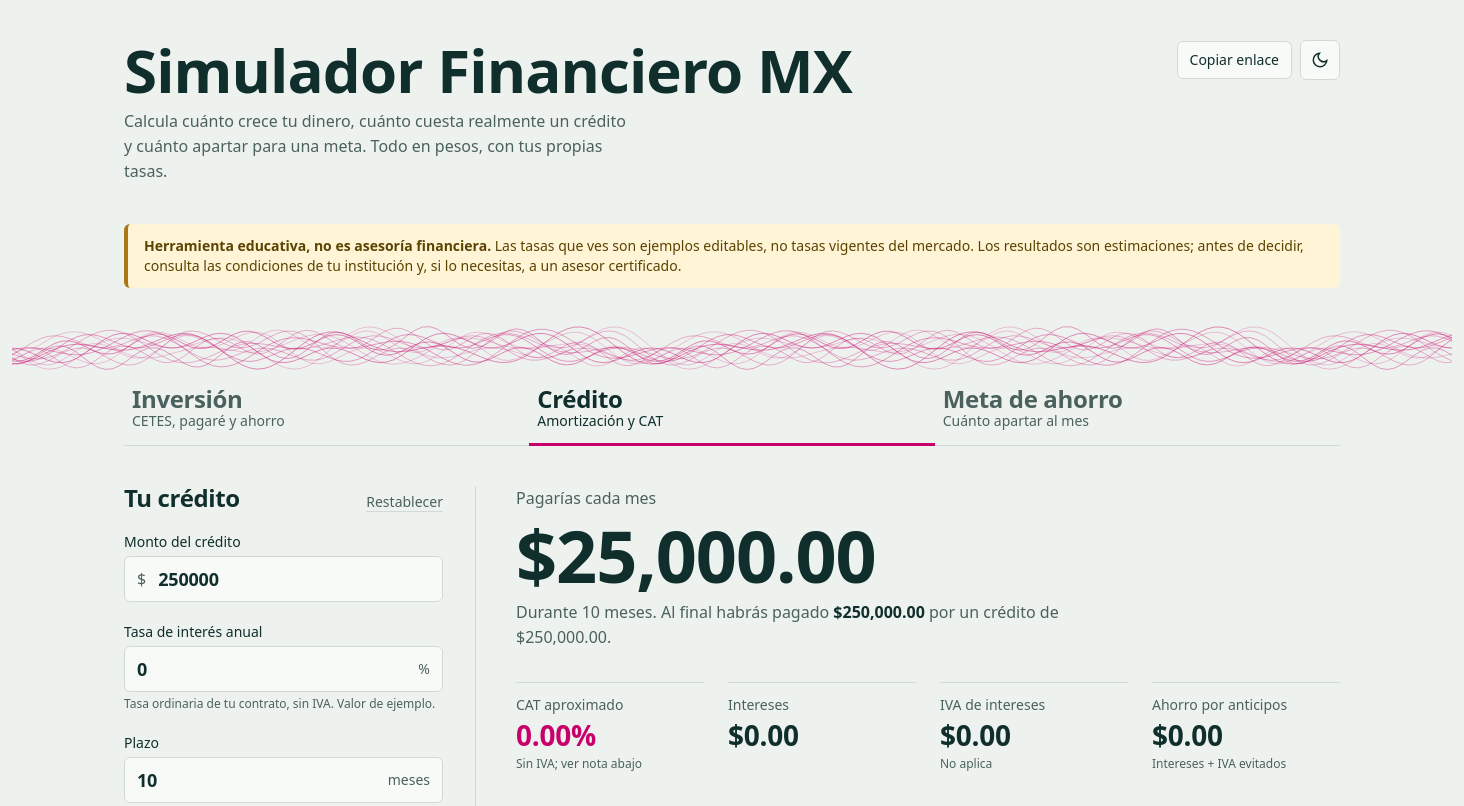
it: Crédito › recalcula al editar el monto y guarda el valor en la URL
Replace the text in the number field labelled "Monto del crédito" with "1000" at (294,579), box x1=146 y1=557 x2=442 y2=601
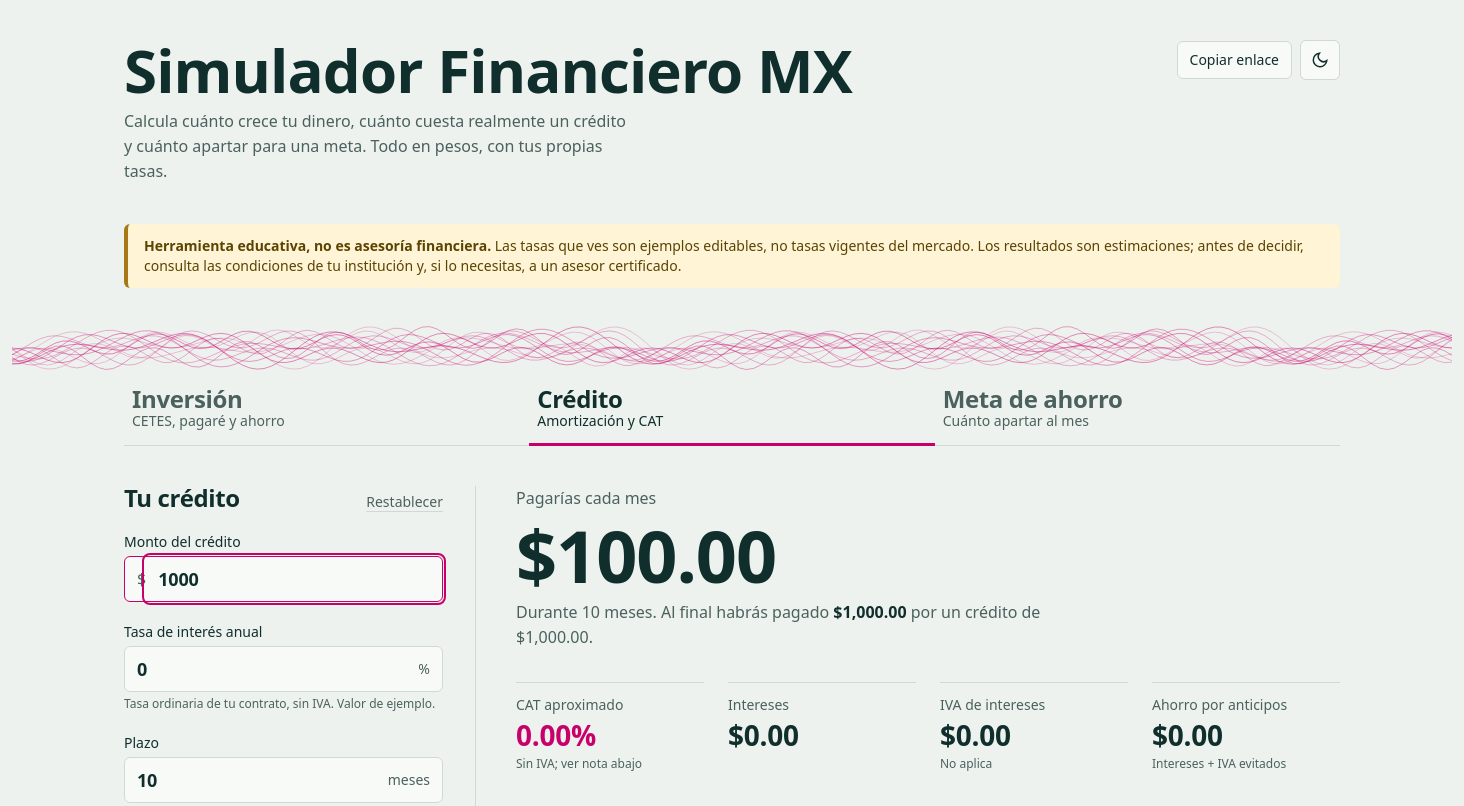
Result: the text "$100.00" is shown at x1=516 y1=506 x2=776 y2=604
